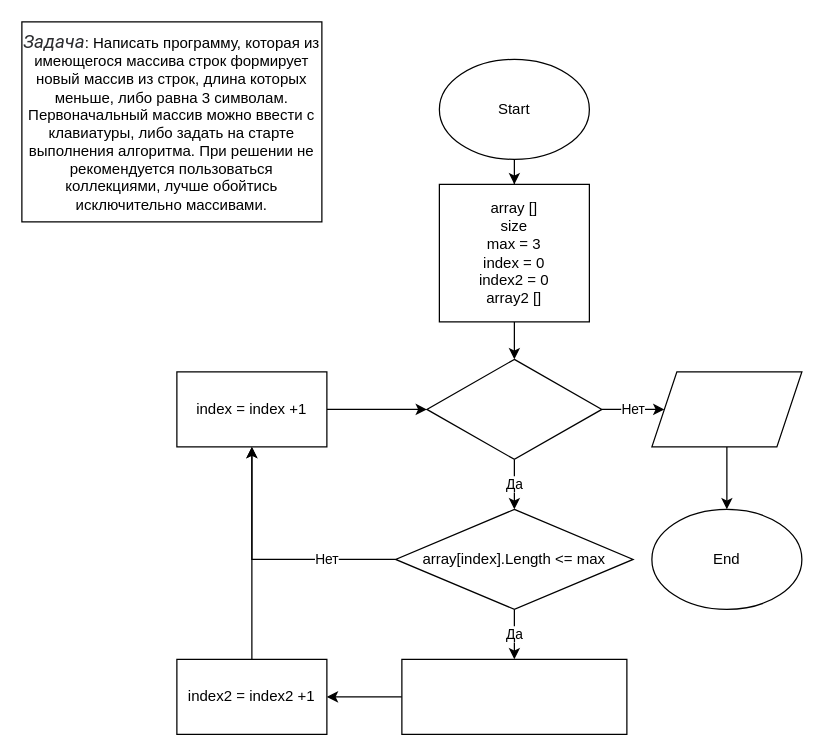
Some shapes in this 824 by 756 pixel diagram are drawn without their labels. The centre of each missing label's shape, as x and y in pixels:
"array2 [index2] = array [index]" goes at point (514, 696).
"index < size" goes at point (514, 408).
"print array2 []" goes at point (726, 409).
